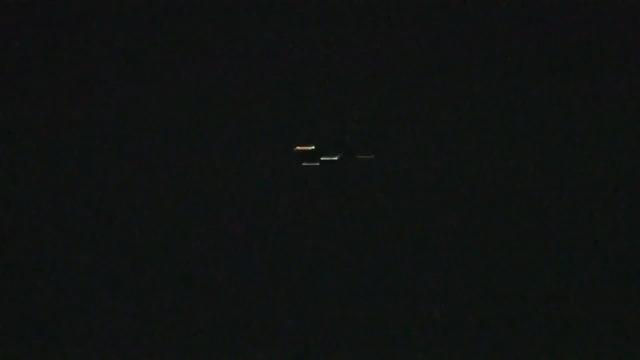Plane: (261, 134, 402, 175)
